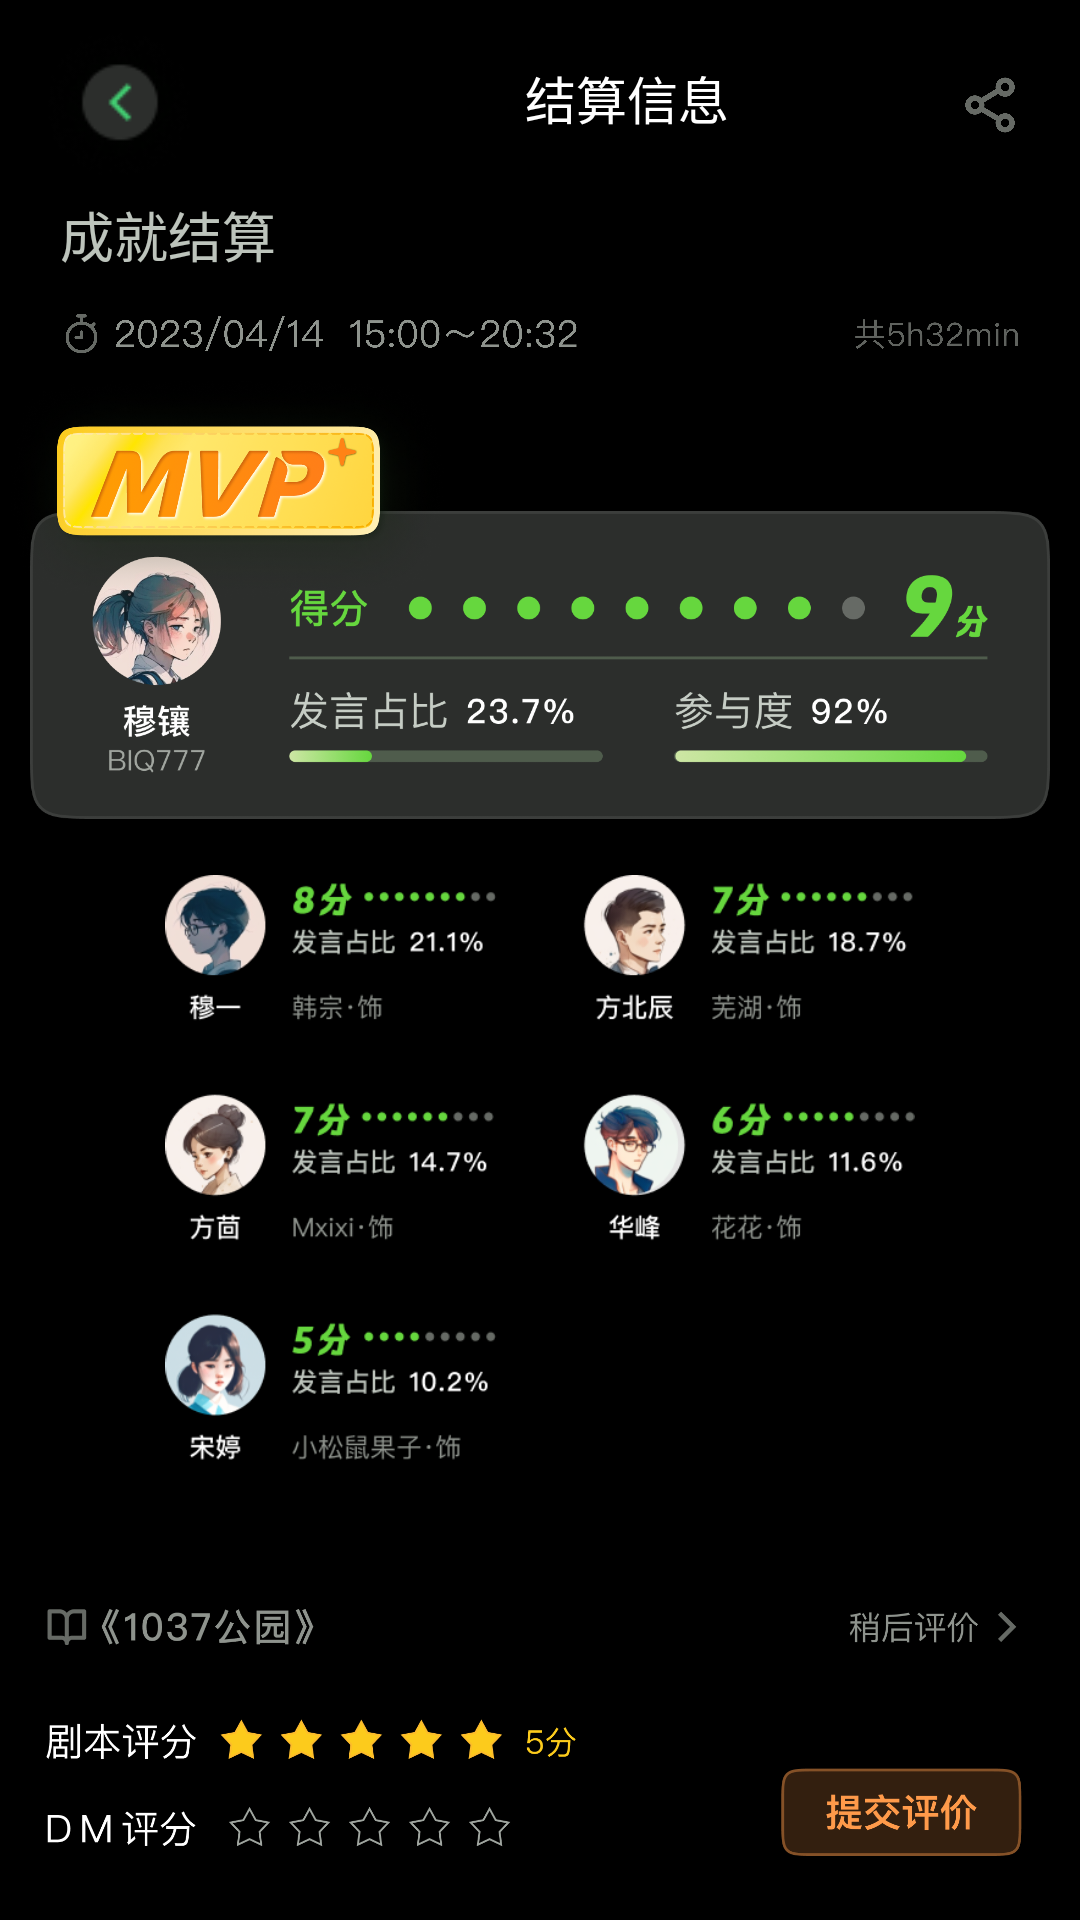

Named icons in this screenshot (1080x1920) and their centers, (x,y):
back: (120,102)
fenxiang: (990,105)
